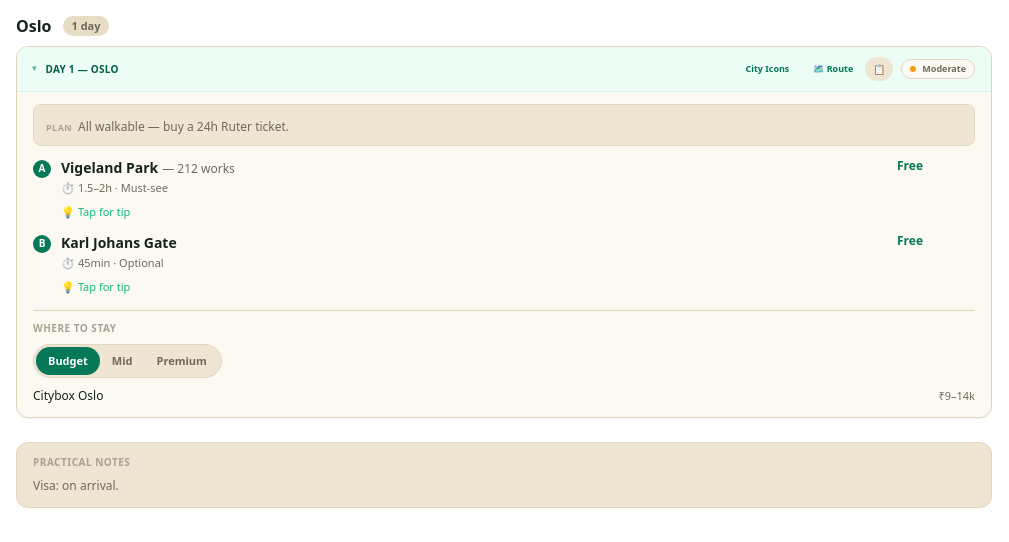
Test: ItineraryView — enriched feasibility pattern › collapses tips behind a Tap-for-tip toggle on mobile
Check: the text "Go by 9am" is not shown
Click the button "💡 Tap for tip" below "1.5–2h · Must-see" at (96, 211), box [61,199,130,223]
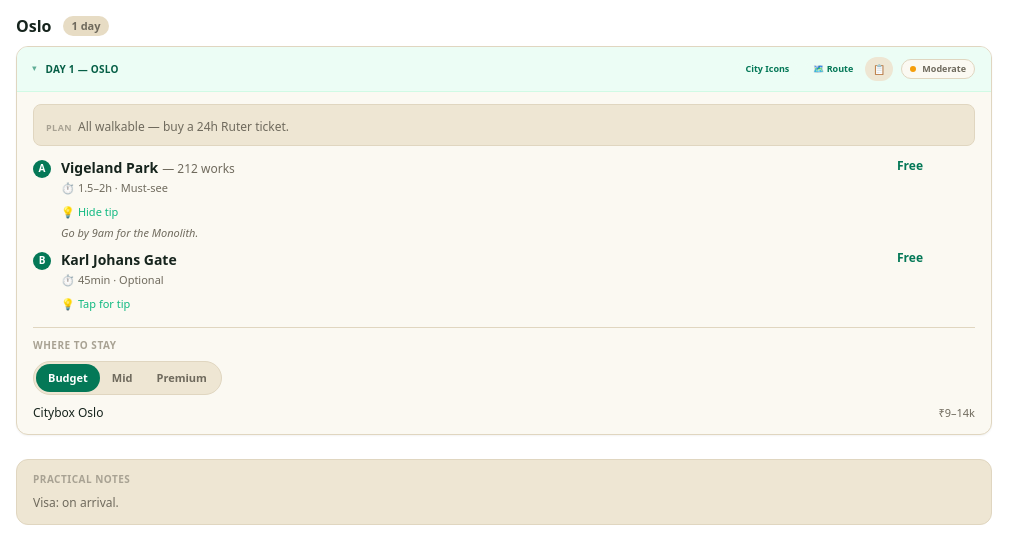
Check: the text "Go by 9am for the Monolith." is shown, box [61,225,198,240]
